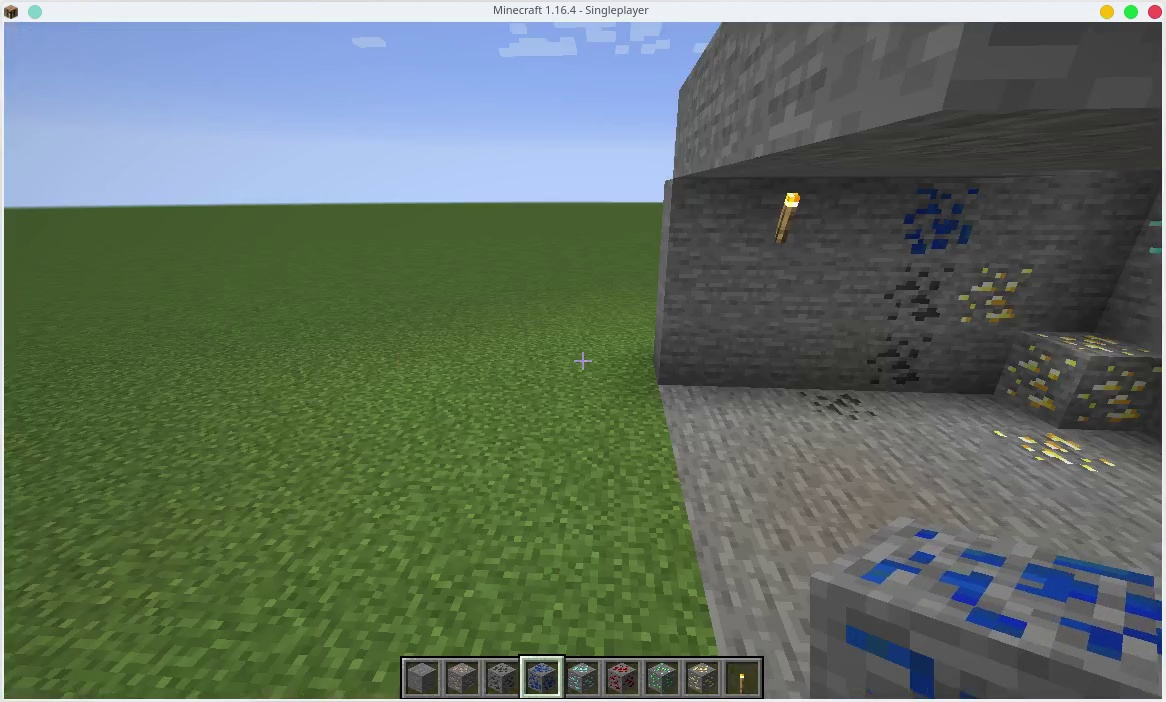gold: (1014, 320, 1160, 424), (989, 426, 1117, 479), (961, 261, 1029, 329), (686, 661, 718, 693)
